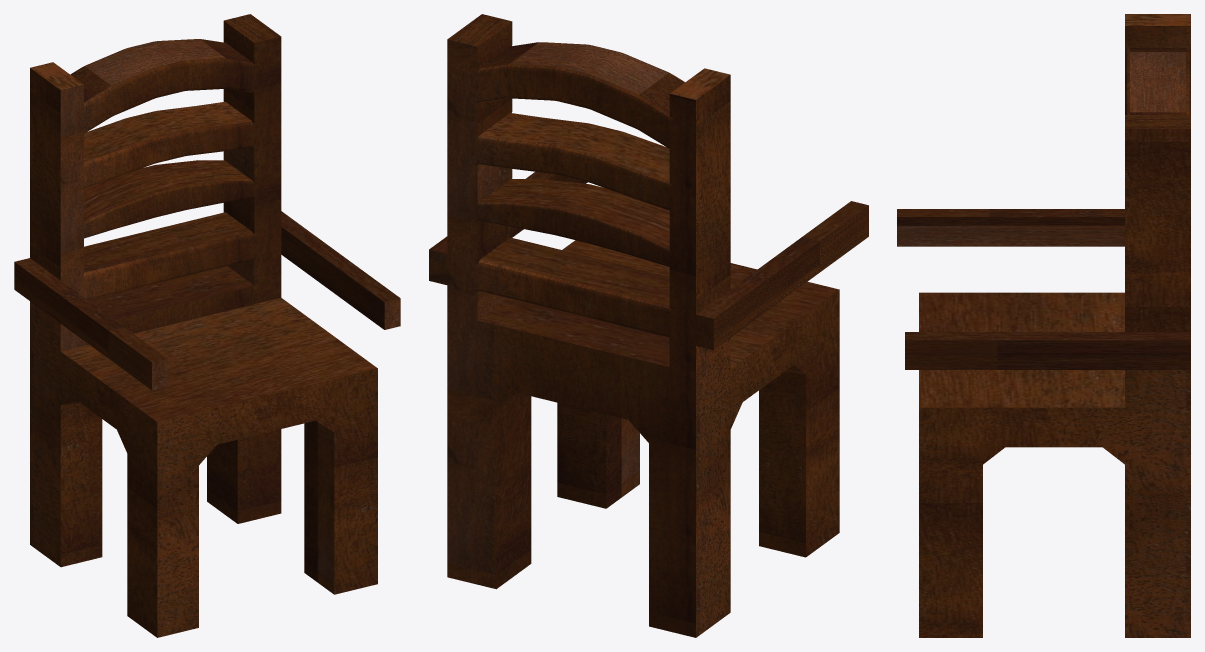
Rendered from Wooden_Chair(Arms).fbx.
3 renders of one model, left to right at view 1: azimuth 30°, elevation 25°; view 2: azimuth 150°, elevation 25°; view 3: azimuth 270°, elevation 25°, orthographic. The views are drawn at different scales.
Parts seen in each view (by area): view 1: chair_wooden_arms; view 2: chair_wooden_arms; view 3: chair_wooden_arms.
Part boxes in pixels (x1,y1,x2,y2): chair_wooden_arms: [14, 14, 400, 637]; chair_wooden_arms: [429, 14, 868, 637]; chair_wooden_arms: [897, 14, 1190, 637].
Size of the model in its own units: 0.8269 by 1.49 by 0.7813.
Materials: 1 (1 with a texture image).
